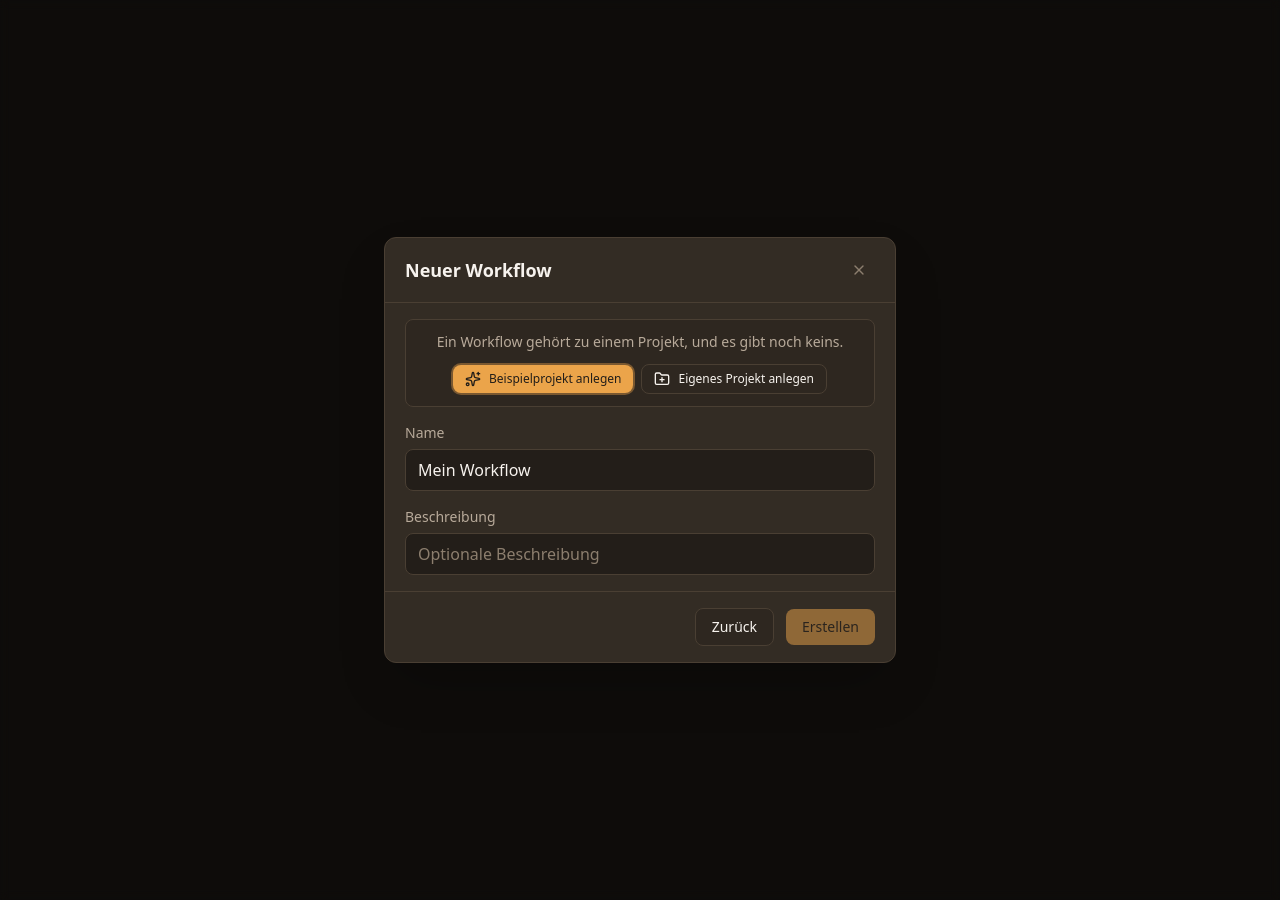
WorkflowCreateFlow without any project › shows the project form in the same dialog, and back returns to the workflow
Step 1. Click the button "Eigenes Projekt anlegen" → (734, 379), box [642,364,827,394]
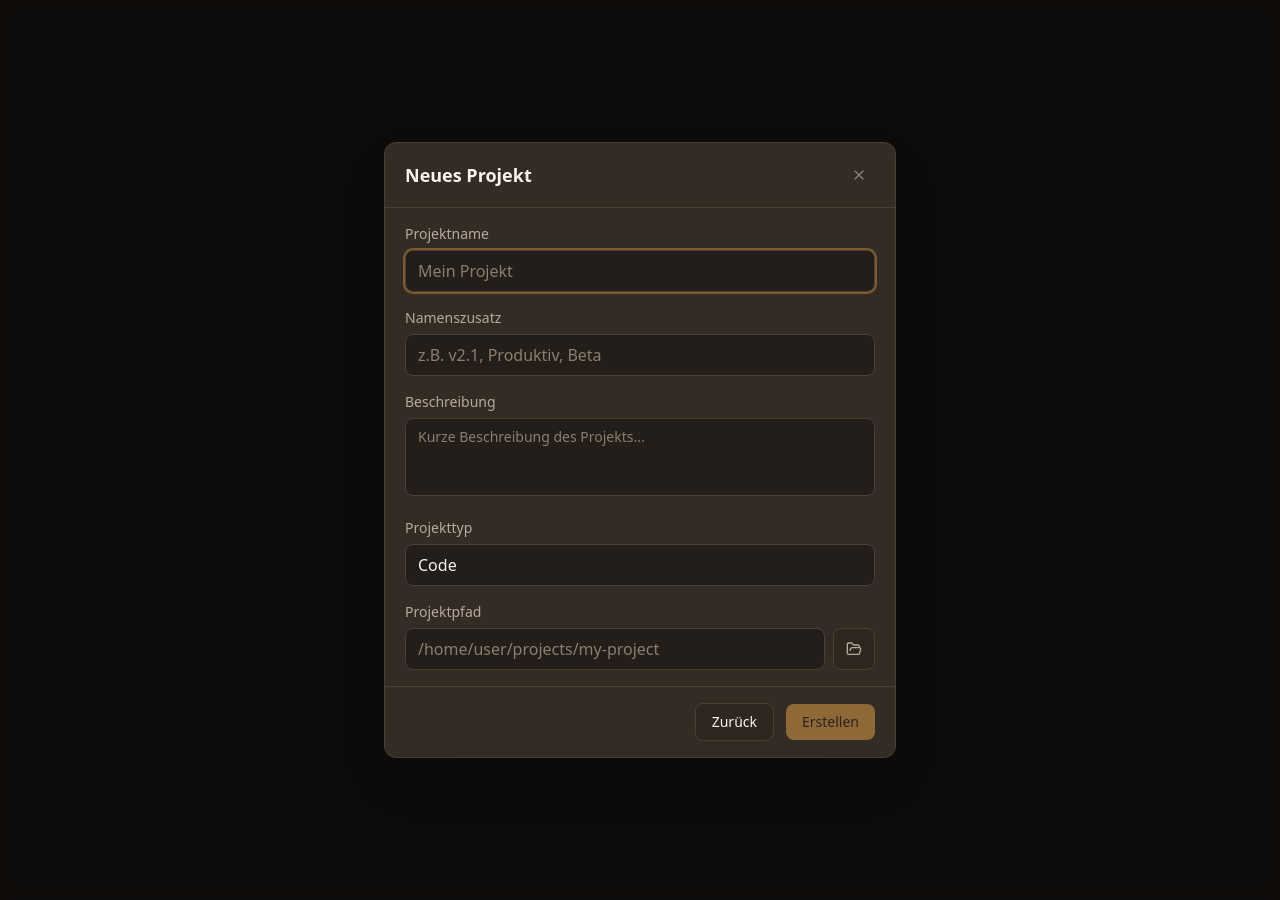
Expected: the number of dialogs is 1, [384,142,896,758]
Expected: the text "Projektpfad" is shown, [405,602,481,621]
Step 2. Click the button "Zurück" → (734, 722), box [695,703,774,741]
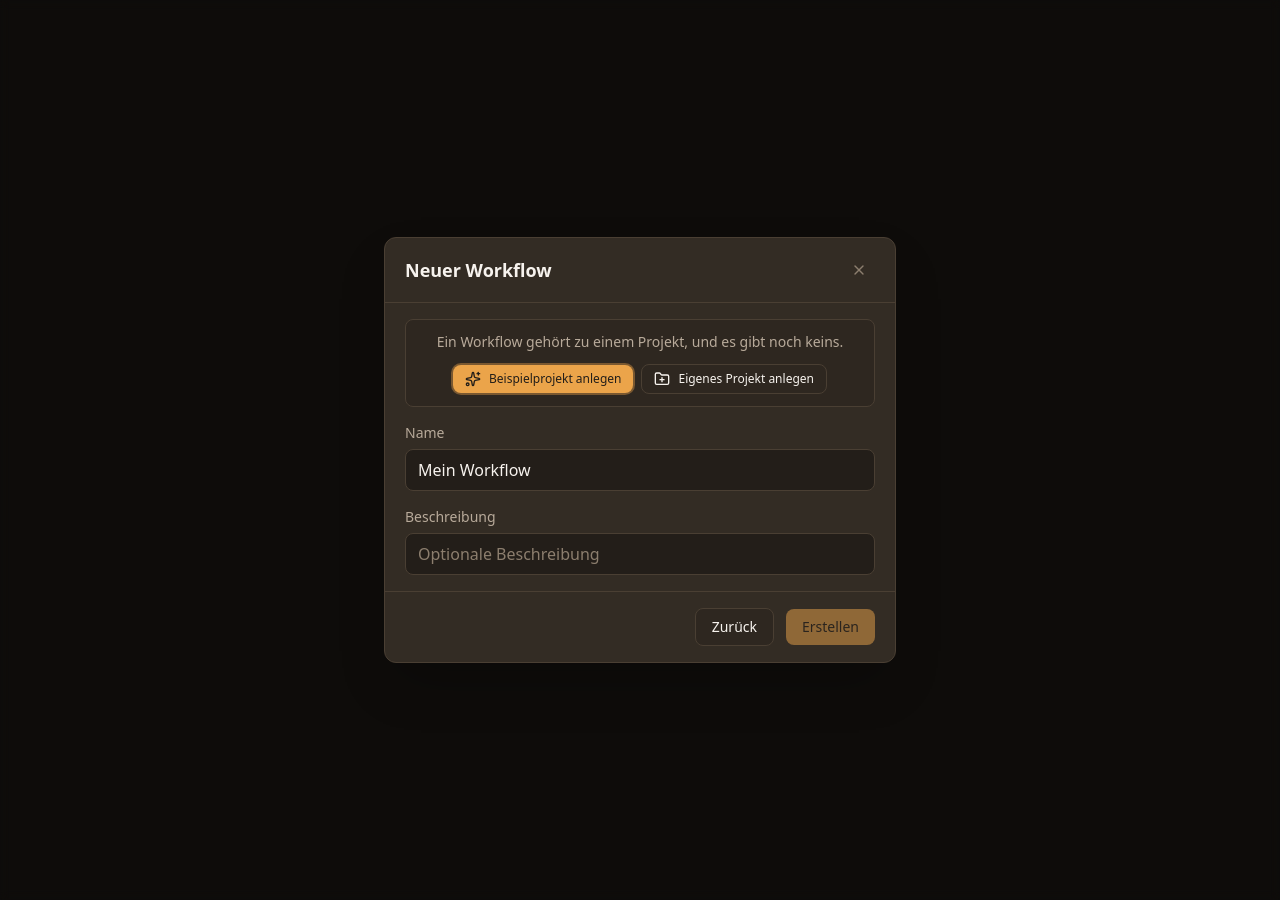
Expected: the text "Ein Workflow gehört zu einem Projekt, und es gibt noch keins." is shown, [418,332,862,352]
